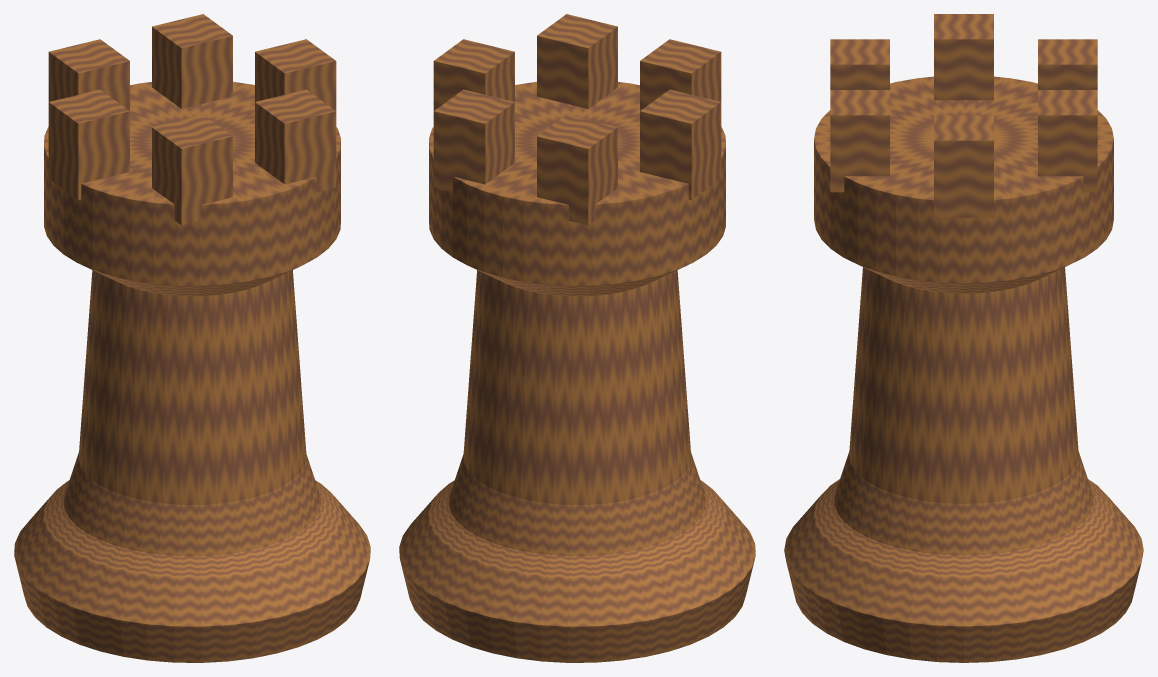
The model's file is rook_ivory.obj.
3 renders of one model, left to right at view 1: azimuth 30°, elevation 25°; view 2: azimuth 150°, elevation 25°; view 3: azimuth 270°, elevation 25°, orthographic.
Bounding box in the file's own units: 0.72 × 1.13 × 0.72.
Materials: 1 (1 with a texture image).
